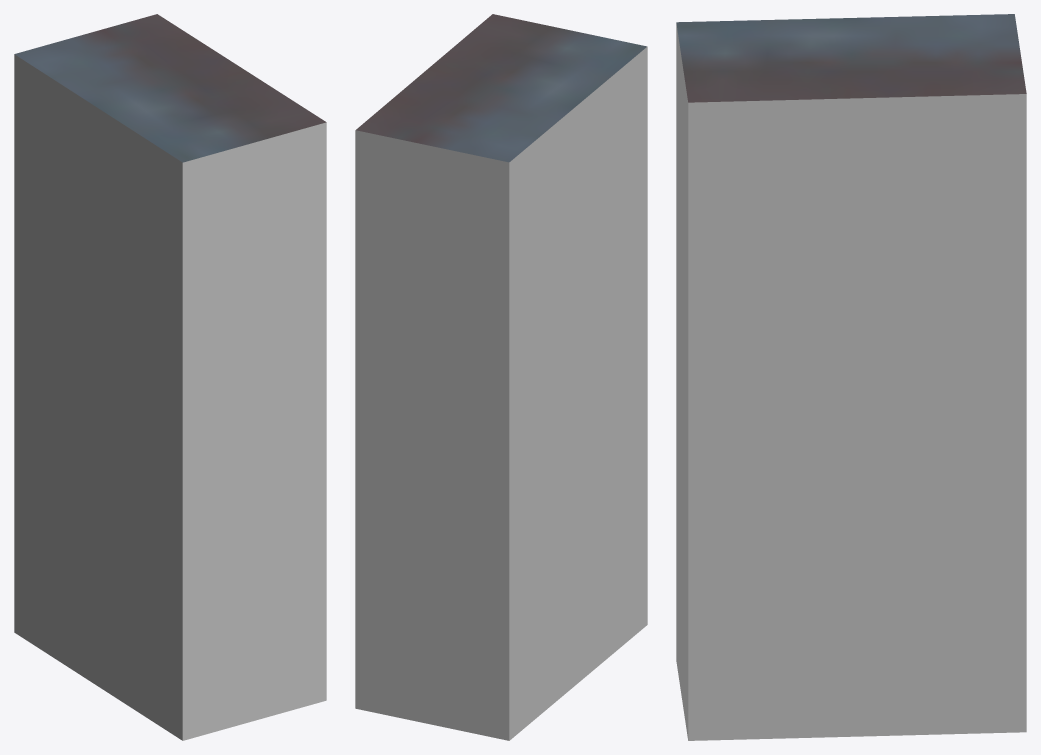
Rendered from DEBW_0010007THYt.gltf.
3 renders of one model, left to right at view 1: azimuth 30°, elevation 25°; view 2: azimuth 150°, elevation 25°; view 3: azimuth 270°, elevation 25°, orthographic. The views are drawn at different scales.
Parts seen in each view (by area): view 1: Z_UP; view 2: Z_UP; view 3: Z_UP.
Part boxes in pixels (x1=…): Z_UP: x1=14, y1=14, x2=326, y2=740; Z_UP: x1=355, y1=14, x2=647, y2=740; Z_UP: x1=676, y1=14, x2=1026, y2=740.
Size of the model in its own units: 1.94 by 6.51 by 3.24.
2 materials, 1 textured.
